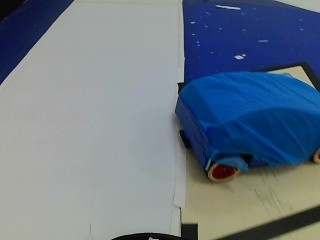car: (168, 70, 318, 184)
